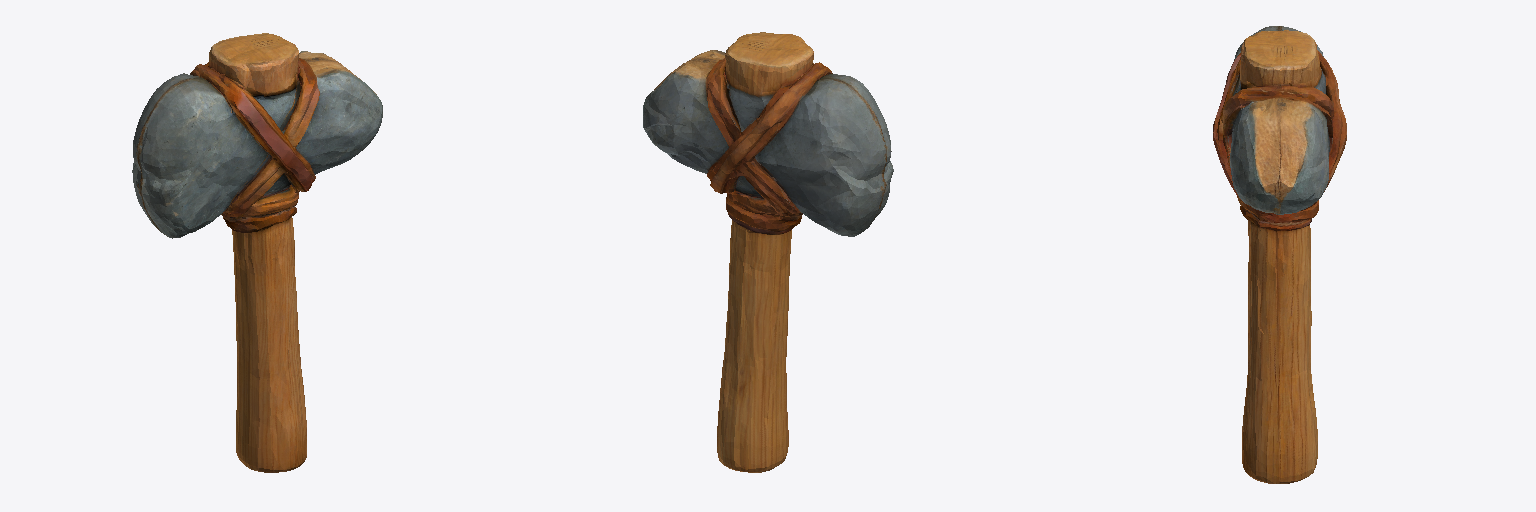
3 views of the same model, side by side, from view 1: azimuth 30°, elevation 25°; view 2: azimuth 150°, elevation 25°; view 3: azimuth 270°, elevation 25° (orthographic).
Parts seen in each view (by area): view 1: Stone_Age_Hammer_[number redacted]_texture; view 2: Stone_Age_Hammer_[number redacted]_texture; view 3: Stone_Age_Hammer_[number redacted]_texture.
Boxes of the visible parts, x1,y1,x2,y2 form: Stone_Age_Hammer_[number redacted]_texture: [132, 33, 382, 472]; Stone_Age_Hammer_[number redacted]_texture: [643, 32, 893, 472]; Stone_Age_Hammer_[number redacted]_texture: [1213, 26, 1346, 483].
Size of the model in its own units: 1.16 by 1.98 by 0.5719.
1 materials, 1 textured.